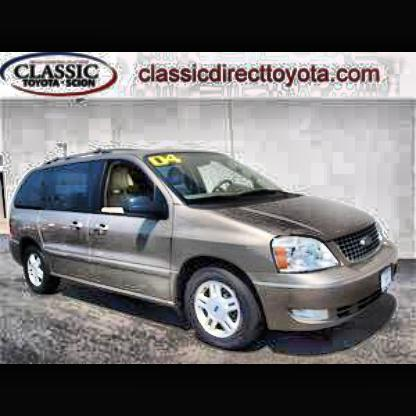Ford Freestar Minivan 2007: (11, 149, 402, 352)
